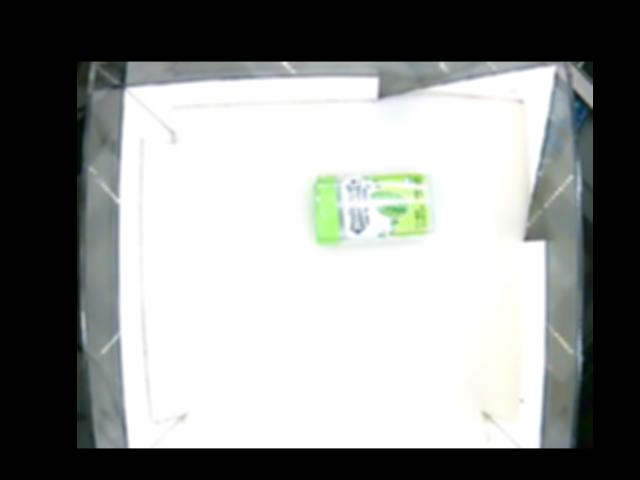Bottle: (312, 170, 434, 245)
